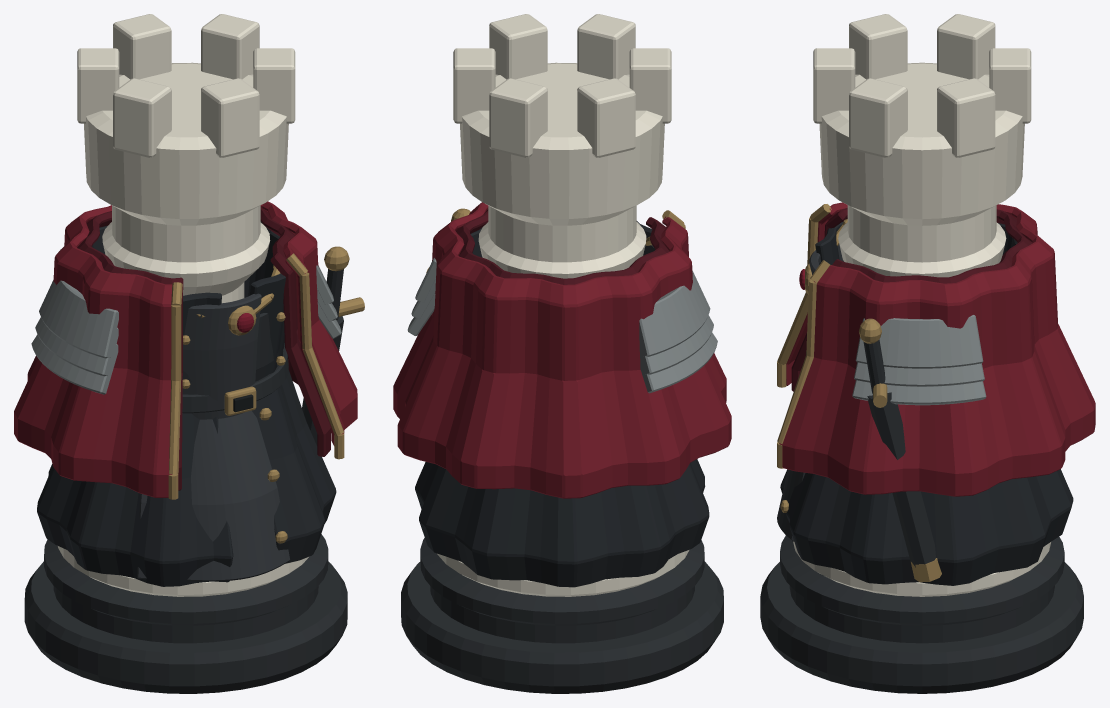
File: CHR_flint.glb
3 views of the same model, side by side, from view 1: azimuth 30°, elevation 25°; view 2: azimuth 150°, elevation 25°; view 3: azimuth 270°, elevation 25° (orthographic).
Visible parts, largest first — view 1: CHR_flint__ivory, CHR_flint__black, CHR_flint__red, CHR_flint__cloth, CHR_flint__fold, CHR_flint__steel, CHR_flint__brass, CHR_flint__redshadow; view 2: CHR_flint__red, CHR_flint__ivory, CHR_flint__black, CHR_flint__cloth, CHR_flint__steel, CHR_flint__redshadow; view 3: CHR_flint__ivory, CHR_flint__red, CHR_flint__black, CHR_flint__cloth, CHR_flint__steel, CHR_flint__brass, CHR_flint__redshadow, CHR_flint__fold.
Part boxes in pixels (left/top/right/bottom): CHR_flint__ivory: left=58, top=14, right=308, bottom=596; CHR_flint__black: left=24, top=268, right=347, bottom=693; CHR_flint__red: left=14, top=201, right=357, bottom=497; CHR_flint__cloth: left=37, top=221, right=336, bottom=586; CHR_flint__fold: left=137, top=293, right=289, bottom=581; CHR_flint__steel: left=31, top=265, right=341, bottom=394; CHR_flint__brass: left=168, top=246, right=364, bottom=543; CHR_flint__redshadow: left=77, top=208, right=331, bottom=490; CHR_flint__red: left=393, top=202, right=731, bottom=498; CHR_flint__ivory: left=437, top=14, right=689, bottom=596; CHR_flint__black: left=401, top=538, right=723, bottom=693; CHR_flint__cloth: left=415, top=221, right=709, bottom=587; CHR_flint__steel: left=407, top=258, right=717, bottom=393; CHR_flint__redshadow: left=456, top=209, right=669, bottom=284; CHR_flint__ivory: left=793, top=14, right=1050, bottom=596; CHR_flint__red: left=779, top=202, right=1095, bottom=496; CHR_flint__black: left=760, top=261, right=1083, bottom=693; CHR_flint__cloth: left=780, top=222, right=1073, bottom=585; CHR_flint__steel: left=852, top=315, right=986, bottom=405; CHR_flint__brass: left=777, top=204, right=941, bottom=582; CHR_flint__redshadow: left=791, top=208, right=1032, bottom=391; CHR_flint__fold: left=777, top=244, right=843, bottom=541.
Size of the model in its own units: 0.9902 by 1.8 by 0.956.
